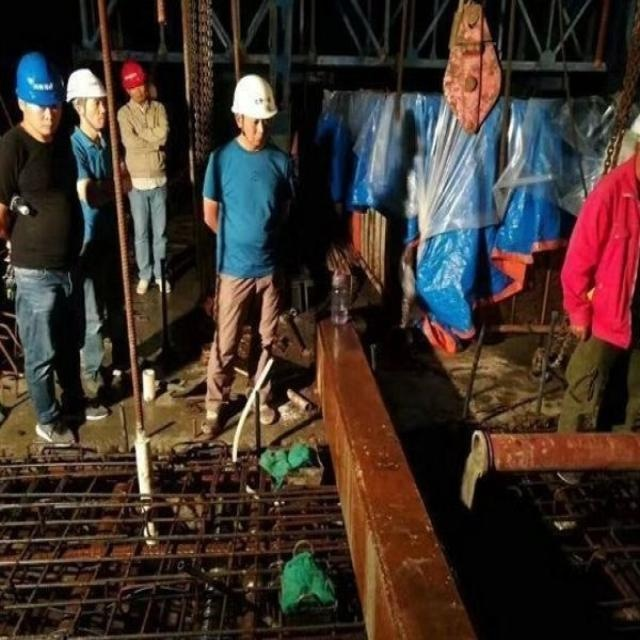Con_Casco: (19, 54, 65, 133), (230, 73, 279, 140)
Sin_Chaleco: (211, 142, 288, 273)
